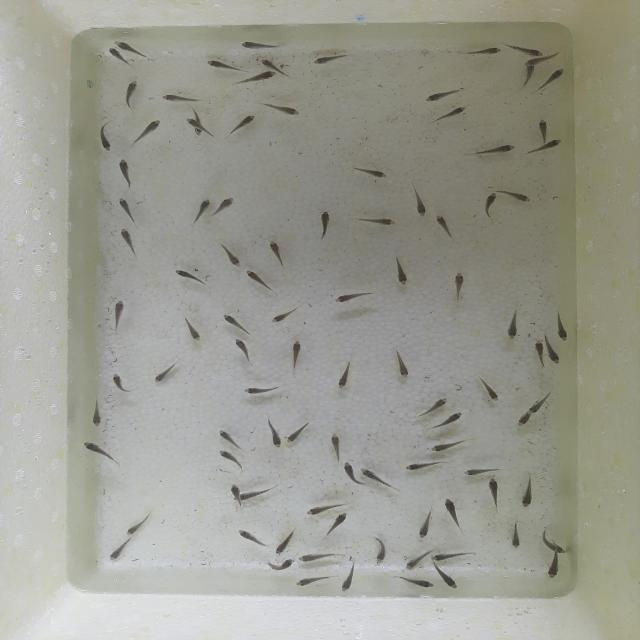fingerling: (168, 267, 216, 291), (384, 252, 414, 286), (76, 440, 122, 462), (245, 268, 278, 295), (129, 121, 165, 145), (483, 476, 509, 509), (443, 498, 468, 532), (359, 466, 395, 488), (540, 66, 570, 92), (84, 398, 108, 430), (256, 100, 304, 116), (213, 450, 251, 470), (334, 287, 376, 305), (224, 116, 258, 138), (538, 528, 566, 554), (114, 227, 140, 255), (435, 568, 468, 590), (158, 91, 200, 108), (112, 158, 134, 190), (218, 246, 245, 272), (215, 314, 248, 335), (292, 571, 328, 590), (208, 197, 239, 219), (352, 212, 394, 228), (335, 360, 357, 390), (504, 311, 524, 344), (108, 300, 130, 330), (266, 306, 302, 324), (316, 208, 334, 244), (430, 550, 476, 564), (526, 138, 566, 154), (236, 38, 276, 54), (115, 197, 142, 220), (548, 316, 570, 344), (352, 164, 388, 181), (397, 574, 435, 590), (234, 528, 264, 548), (265, 420, 285, 450), (234, 336, 254, 366), (470, 145, 520, 157), (232, 72, 278, 85), (420, 396, 451, 415), (505, 516, 523, 548), (520, 472, 536, 508), (180, 316, 203, 341), (154, 362, 180, 384), (409, 188, 428, 218), (216, 428, 244, 448), (526, 394, 554, 414), (194, 198, 214, 226), (431, 106, 466, 122), (120, 80, 140, 108), (108, 371, 133, 393), (434, 409, 464, 427), (287, 338, 302, 374), (434, 213, 452, 243), (296, 552, 340, 564), (479, 376, 499, 402), (452, 270, 468, 302), (502, 186, 534, 202), (393, 352, 410, 382), (269, 238, 286, 268), (306, 502, 342, 516), (458, 466, 500, 478), (123, 516, 145, 538), (542, 342, 564, 364), (337, 568, 357, 592), (106, 542, 130, 562), (204, 59, 240, 72), (276, 533, 297, 555), (406, 461, 448, 472), (287, 422, 308, 444), (546, 556, 565, 580), (329, 512, 348, 536), (424, 90, 462, 102), (418, 509, 432, 541), (525, 54, 559, 67), (342, 463, 362, 485), (372, 537, 387, 565), (243, 386, 285, 396), (426, 441, 468, 451), (459, 47, 501, 57), (310, 54, 340, 68), (508, 44, 542, 56), (481, 193, 496, 220), (532, 120, 550, 142), (106, 49, 128, 67), (242, 488, 270, 502), (330, 434, 344, 462), (114, 39, 142, 53), (96, 125, 110, 151), (532, 338, 544, 368), (402, 557, 423, 573), (511, 414, 534, 428), (188, 118, 213, 130), (272, 558, 292, 572), (229, 485, 241, 507), (524, 66, 536, 86), (260, 60, 282, 66)
